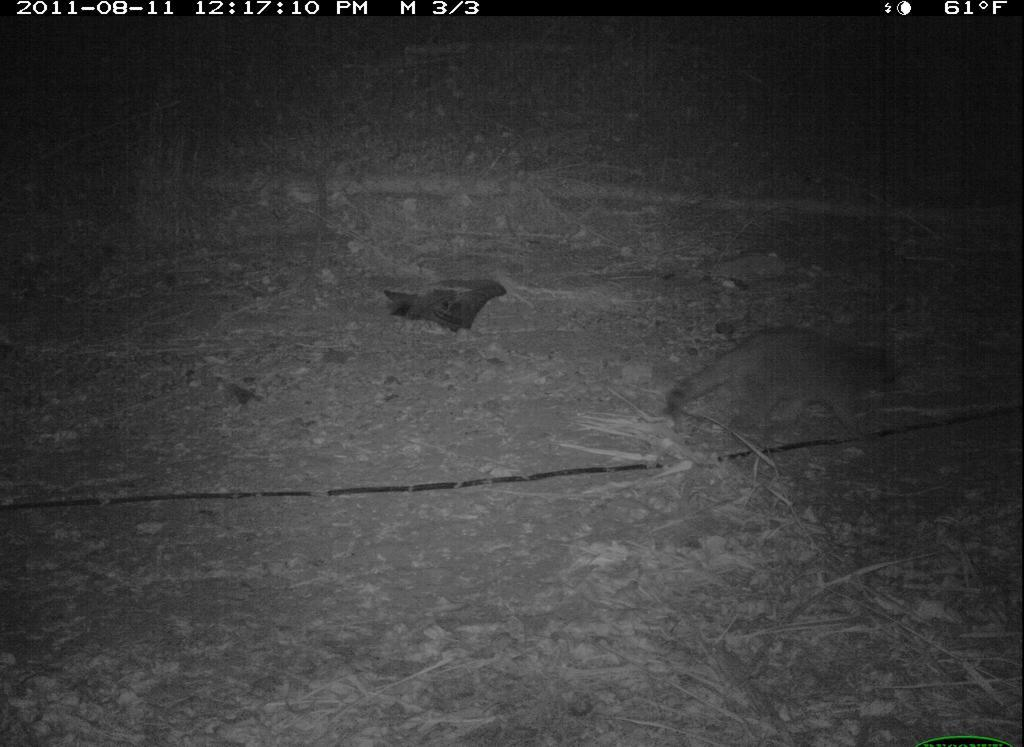raccoon: (653, 297, 926, 469)
